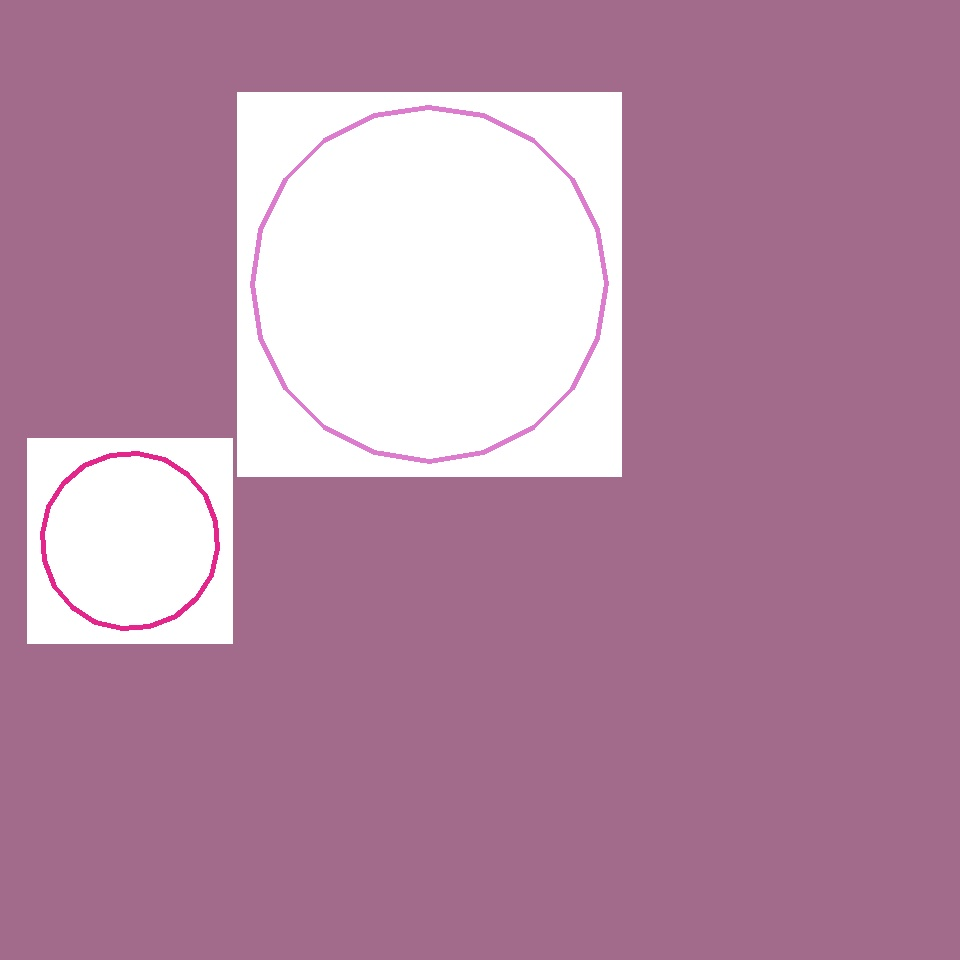circle: (394, 330, 678, 618), (378, 420, 642, 702)
square: (322, 188, 692, 558), (270, 586, 560, 874), (661, 186, 866, 390)
triangle: (252, 107, 606, 461), (42, 454, 218, 629)
